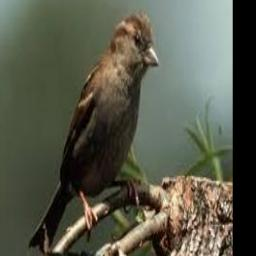Sparrow: (29, 9, 159, 255)
